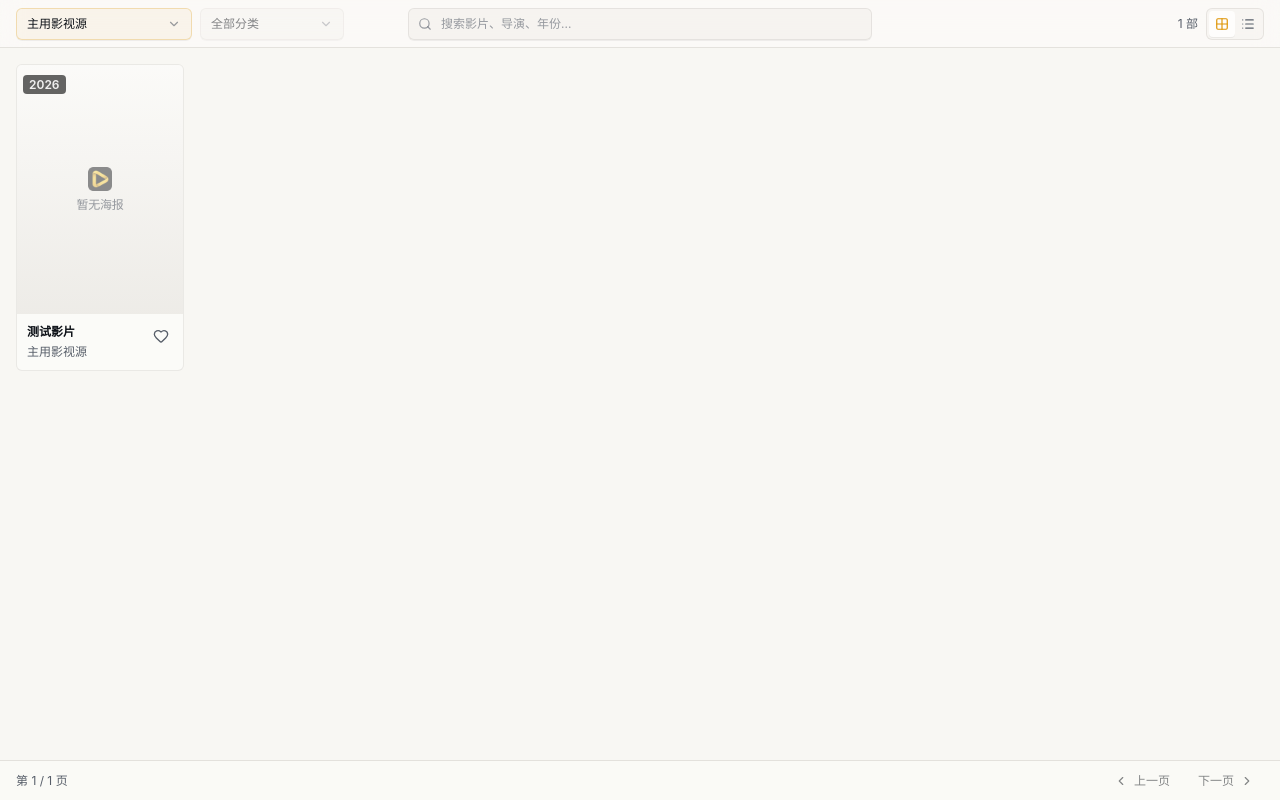
Scenario: BrowseView catalog metadata › opens the watch page directly from a catalog card
Click the text "测试影片": click(51, 332) 27,324 -> 75,339
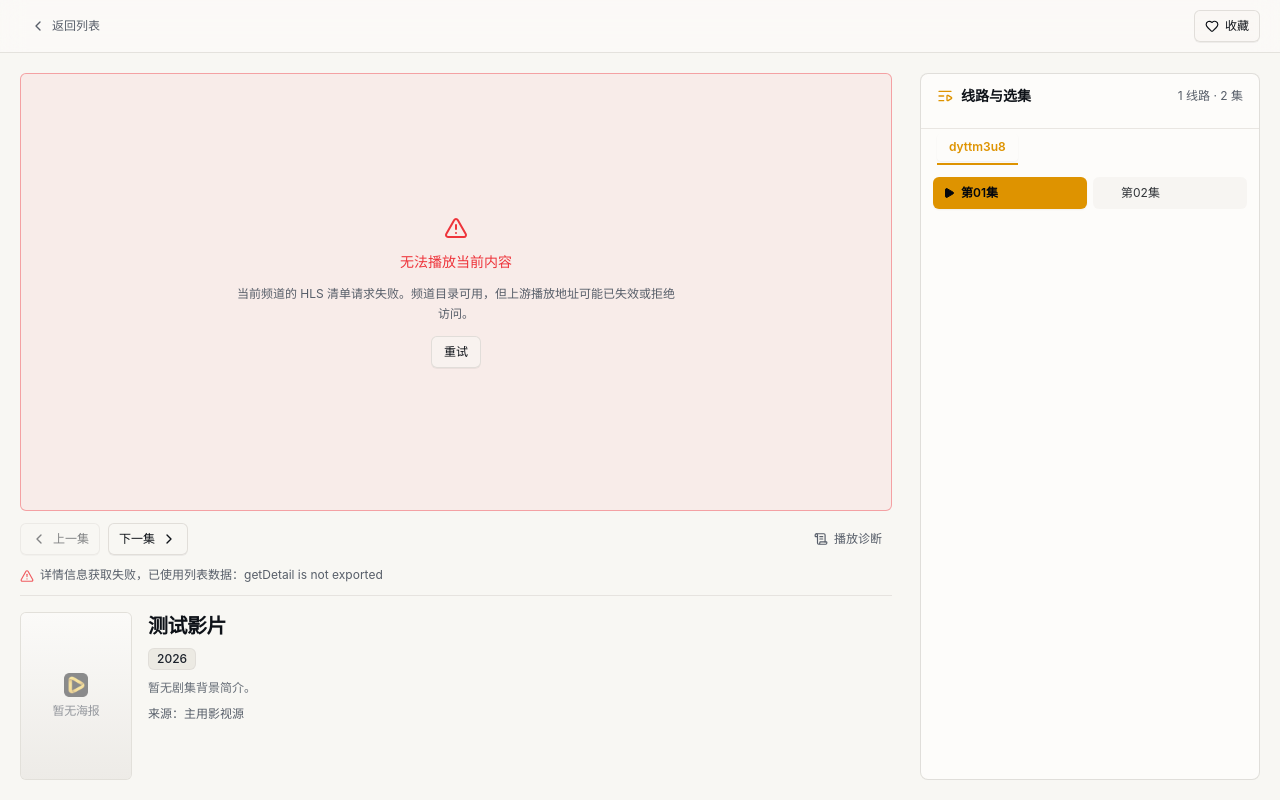
Now the text "线路与选集" is shown, box 937,86 -> 1031,106
Now the button "第02集" is shown, box 1093,177 -> 1247,209
